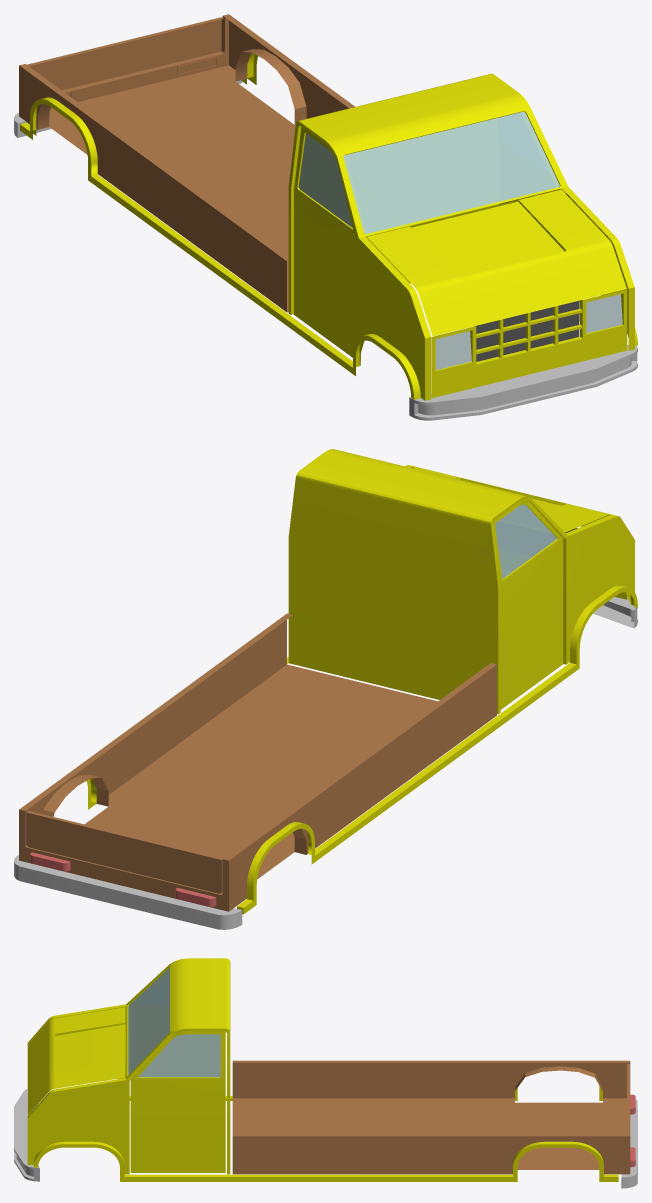
File: Truck_Body.fbx
3 views of the same model, one above another, from view 1: azimuth 30°, elevation 25°; view 2: azimuth 150°, elevation 25°; view 3: azimuth 270°, elevation 25° (orthographic). The views are drawn at different scales.
Parts seen in each view (by area): view 1: Truck_back, HOOD, polySurface28, WIND_Sheild_F, DOOR_R, DOOR_BACK_L2, HEAD_LIGHTS_FRAME, FENDER_F, FENDER_R, GRILLES, WINDOW_R, HEAD_LIGHT_R (+1 smaller); view 2: Truck_back, polySurface28, DOOR_R, DOOR_BACK_L2, FENDER_R, FENDER_B, WINDOW_R, HOOD, FENDER_F; view 3: Truck_back, polySurface28, DOOR_L, HOOD, FENDER_L, WIND_Sheild_F, WINDOW_L, FENDER_F, FENDER_B.
Boxes of the visible parts, <box> form: Truck_back: <box>19,14,355,312</box>; HOOD: <box>367,189,626,336</box>; polySurface28: <box>288,73,634,400</box>; WIND_Sheild_F: <box>343,111,559,233</box>; DOOR_R: <box>294,126,360,360</box>; DOOR_BACK_L2: <box>27,17,223,91</box>; HEAD_LIGHTS_FRAME: <box>431,289,627,397</box>; FENDER_F: <box>409,344,637,420</box>; FENDER_R: <box>20,97,420,399</box>; GRILLES: <box>476,301,579,361</box>; WINDOW_R: <box>298,133,352,227</box>; HEAD_LIGHT_R: <box>435,331,471,369</box>; Truck_back: <box>19,613,496,911</box>; polySurface28: <box>288,449,634,714</box>; DOOR_R: <box>493,500,563,709</box>; DOOR_BACK_L2: <box>26,811,223,893</box>; FENDER_R: <box>237,585,637,914</box>; FENDER_B: <box>14,855,242,929</box>; WINDOW_R: <box>495,504,556,578</box>; HOOD: <box>412,467,610,532</box>; FENDER_F: <box>593,597,637,628</box>; Truck_back: <box>232,1060,630,1174</box>; polySurface28: <box>27,958,230,1174</box>; DOOR_L: <box>130,1031,225,1172</box>; HOOD: <box>28,1007,125,1115</box>; FENDER_L: <box>33,1141,618,1181</box>; WIND_Sheild_F: <box>128,968,169,1075</box>; WINDOW_L: <box>138,1034,220,1077</box>; FENDER_F: <box>14,1089,39,1181</box>; FENDER_B: <box>621,1099,637,1188</box>.
Bounding box in the file's own units: 1.83 × 1.62 × 5.92.
